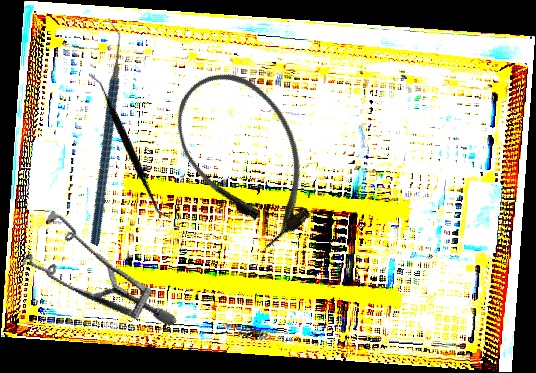Cannula: (156, 52, 337, 261)
Chopper: (16, 17, 190, 247)
Spatula Surgical: (47, 72, 214, 221)
Speculum: (7, 183, 178, 371)
